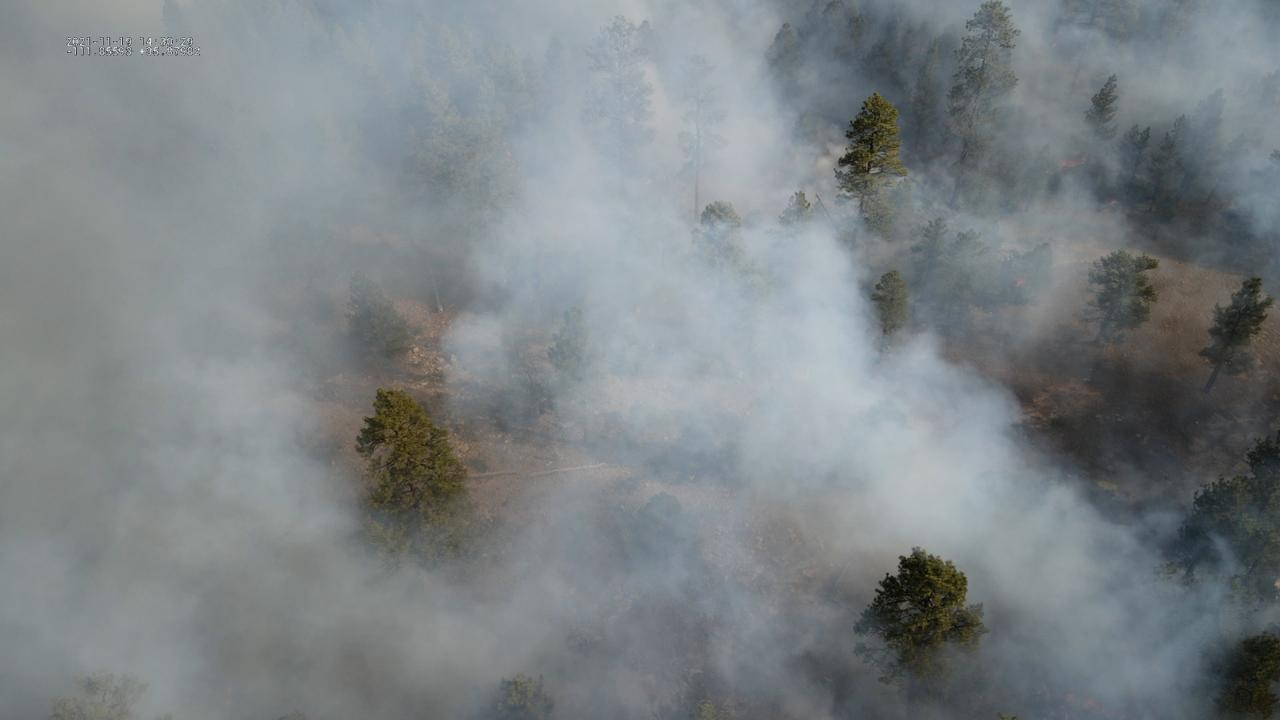fire: (1053, 157, 1087, 169), (1015, 277, 1025, 288)
smoke: (0, 0, 1280, 720)
